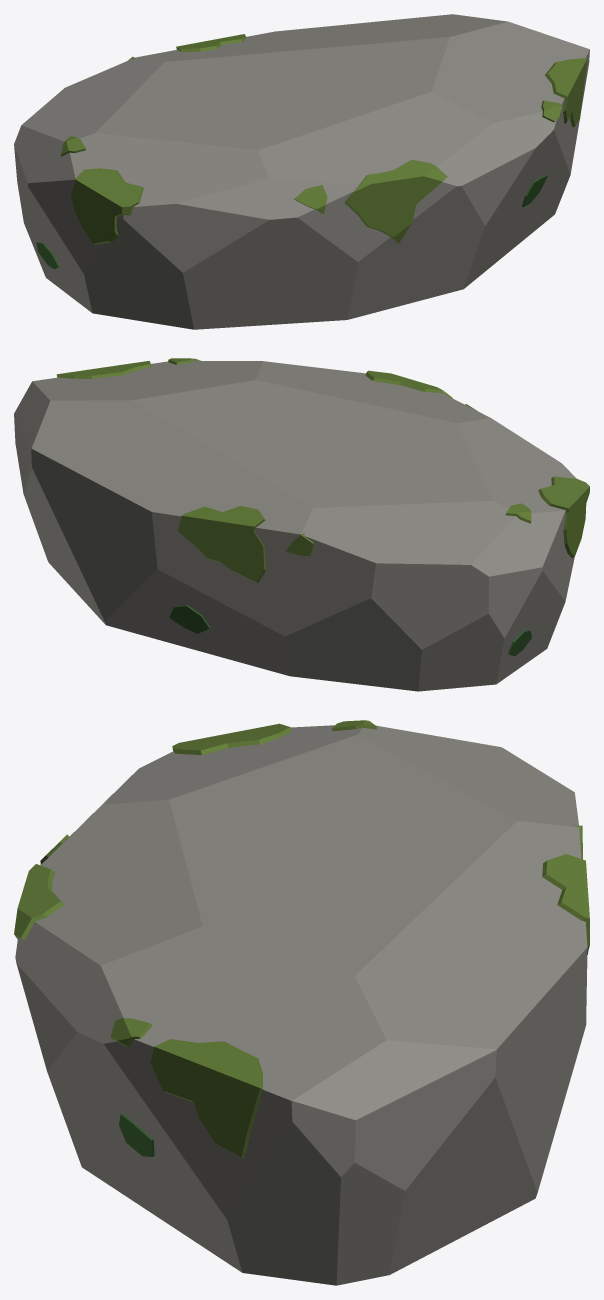
Rendered from large-boulder-a29b99.glb.
3 renders of one model, top to bottom at view 1: azimuth 30°, elevation 25°; view 2: azimuth 150°, elevation 25°; view 3: azimuth 270°, elevation 25°, orthographic. The views are drawn at different scales.
Parts seen in each view (by area): view 1: boulder; view 2: boulder; view 3: boulder.
Boxes of the visible parts, x1,y1,x2,y2 form: boulder: (14, 14, 589, 329); boulder: (14, 358, 589, 691); boulder: (14, 720, 589, 1285).
Bounding box in the file's own units: 2.2 × 0.6599 × 1.39.
